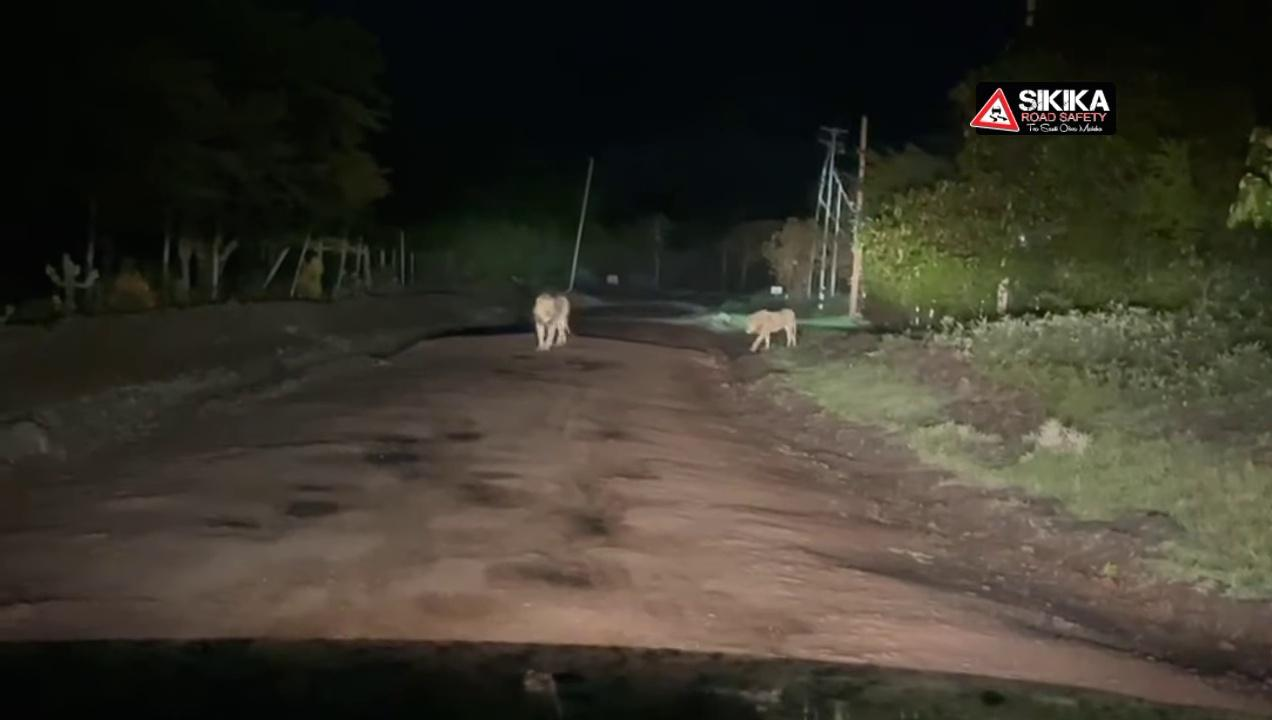lions: (496, 270, 603, 366), (732, 280, 832, 371)
